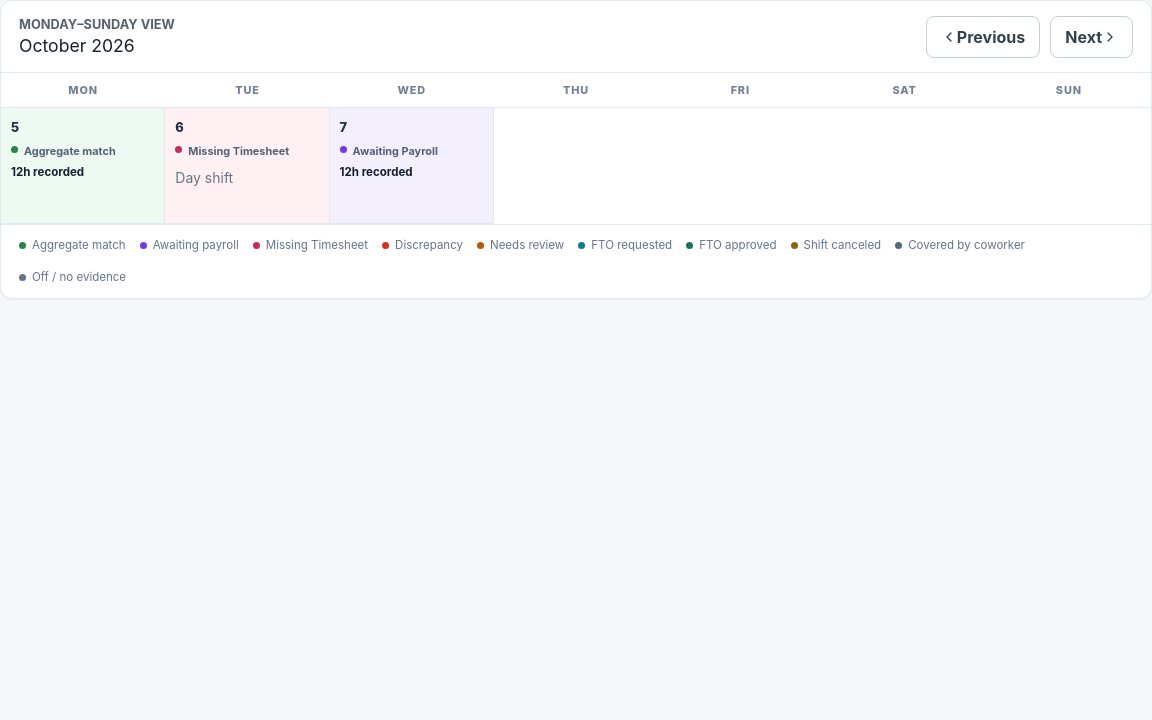
Test case: PayrollCalendar › renders distinct accessible statuses and opens day detail
The image size is (1152, 720).
Check: the button with aria-label "October 6, 2026: Missing Timesheet" is shown, box x1=165 y1=108 x2=330 y2=224
Click the button with aria-label "October 5, 2026".
click(83, 166)  # box x1=1 y1=108 x2=165 y2=224
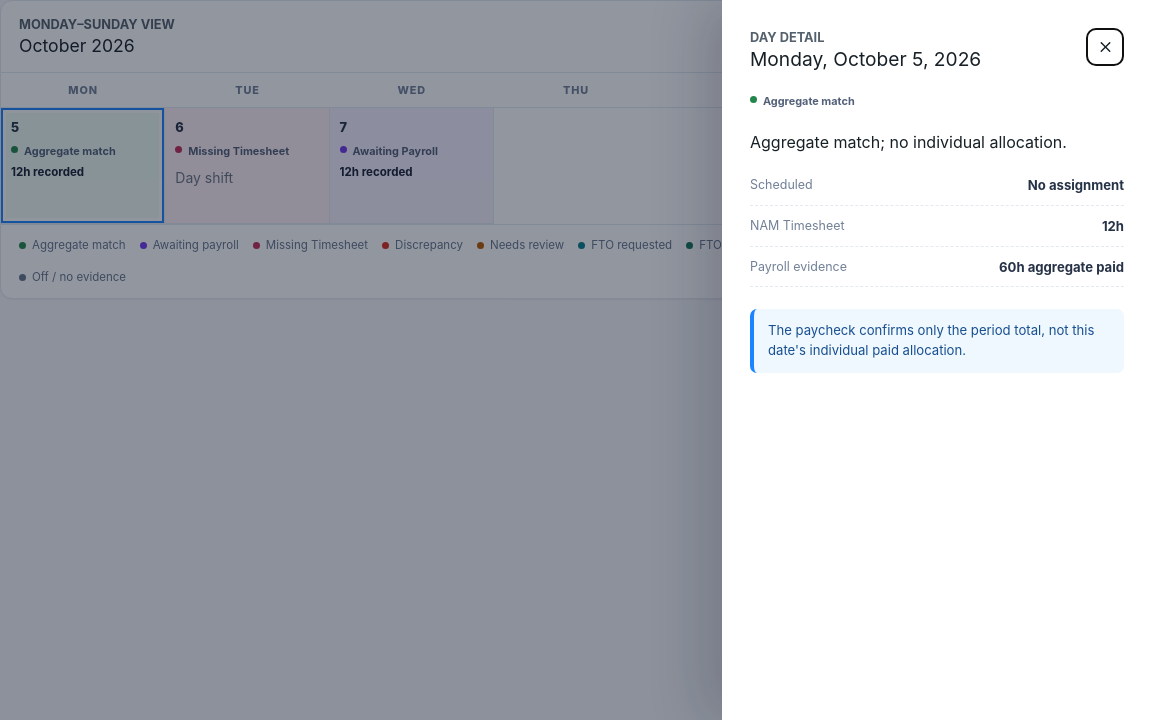
Check: the dialog shows "not this date's individual paid allocation", box x1=768 y1=322 x2=1094 y2=358
